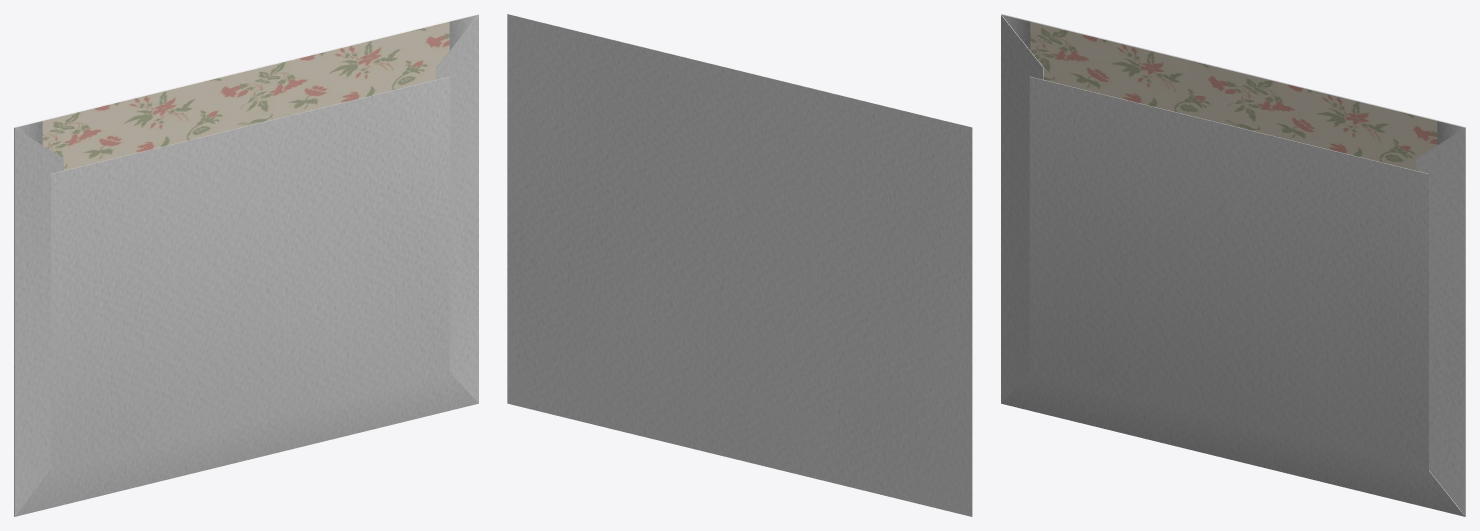
Rendered from Envelope-0TzWysb1.glb.
3 views of the same model, side by side, from view 1: azimuth 30°, elevation 25°; view 2: azimuth 150°, elevation 25°; view 3: azimuth 330°, elevation 25° (orthographic).
Parts seen in each view (by area): view 1: grid1; view 2: grid1; view 3: grid1.
Part boxes in pixels (x1,y1,x2,y2): grid1: (14,14,478,516); grid1: (507,14,972,516); grid1: (1001,14,1465,516).
Bounding box in the file's own units: 1 × 0.8012 × 0.018.
5 materials, 5 textured.
